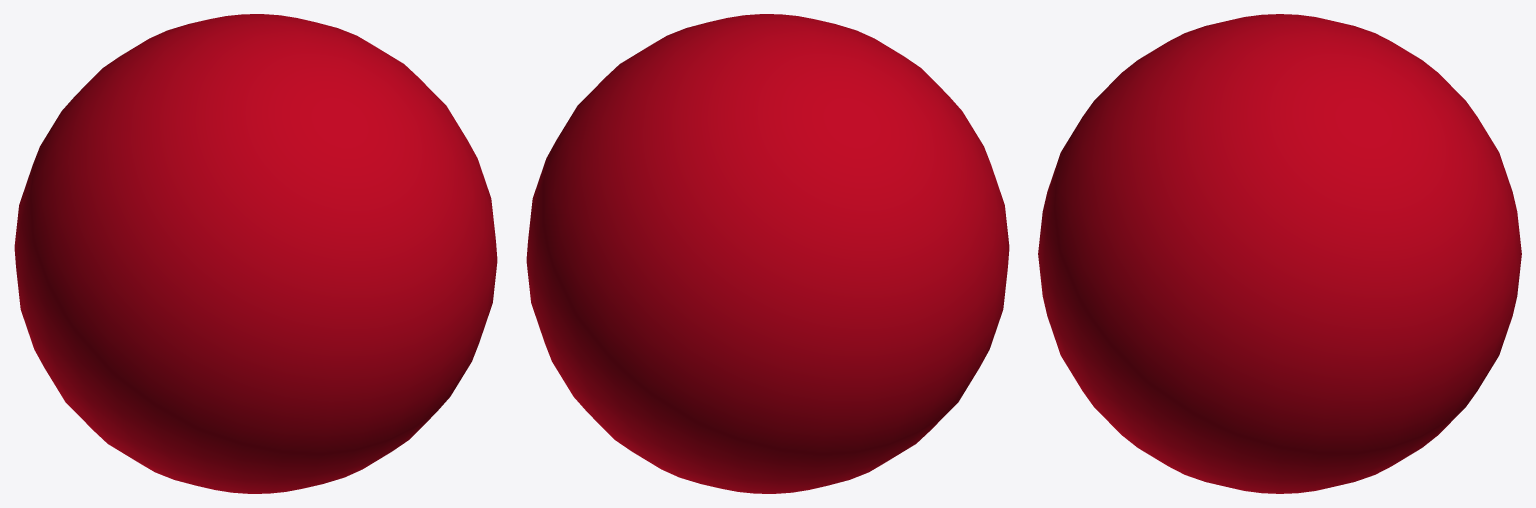
File: ball.gltf
3 views of the same model, side by side, from view 1: azimuth 30°, elevation 25°; view 2: azimuth 150°, elevation 25°; view 3: azimuth 270°, elevation 25° (orthographic).
Visible parts, largest first — view 1: Sphere; view 2: Sphere; view 3: Sphere.
Part boxes in pixels (x1=…): Sphere: x1=14, y1=14, x2=497, y2=493; Sphere: x1=526, y1=14, x2=1009, y2=493; Sphere: x1=1038, y1=14, x2=1521, y2=493.
Bounding box in the file's own units: 2 × 1.98 × 2.
